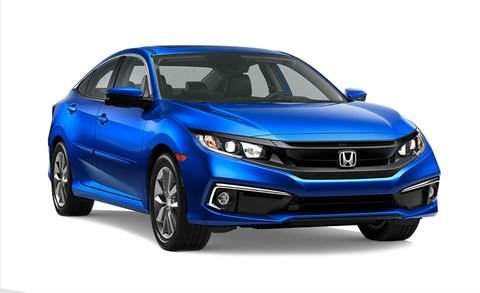mobil: (42, 27, 446, 259)
